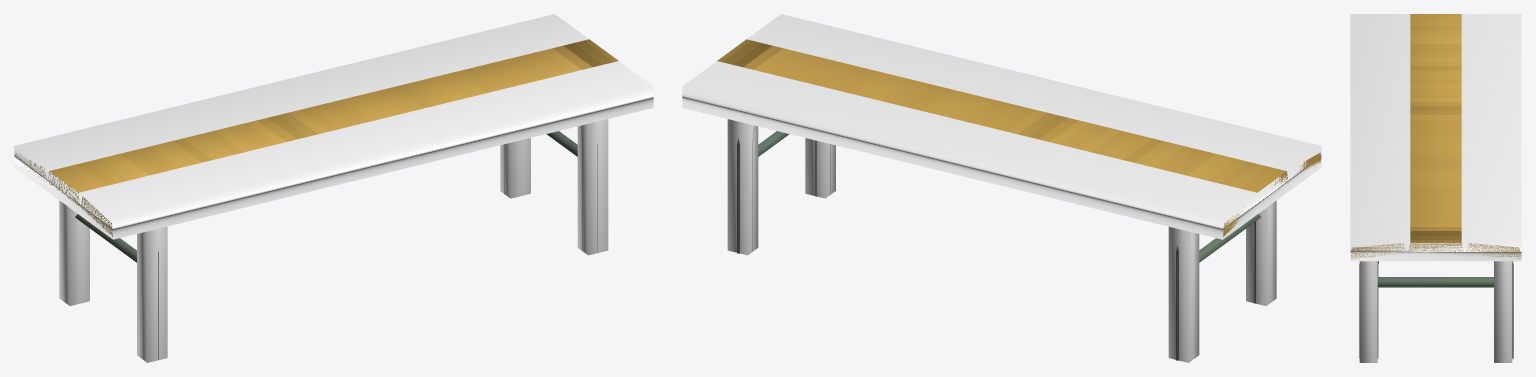
The model's file is objects_un_c03bench01.gltf.
The picture shows the model from 3 angles, left to right: view 1: azimuth 30°, elevation 25°; view 2: azimuth 150°, elevation 25°; view 3: azimuth 270°, elevation 25°; orthographic projection. The views are drawn at different scales.
Visible parts, largest first — view 1: um_objects_un_c03bench01_model_lod0Shape:objects_un_c03bench (×2); view 2: um_objects_un_c03bench01_model_lod0Shape:objects_un_c03bench (×2); view 3: um_objects_un_c03bench01_model_lod0Shape:objects_un_c03bench (×2).
Boxes of the visible parts, x1=… form: um_objects_un_c03bench01_model_lod0Shape:objects_un_c03bench (×2): x1=14, y1=14, x2=653, y2=362; um_objects_un_c03bench01_model_lod0Shape:objects_un_c03bench (×2): x1=682, y1=14, x2=1321, y2=362; um_objects_un_c03bench01_model_lod0Shape:objects_un_c03bench (×2): x1=1350, y1=14, x2=1521, y2=362.
Size of what is drawn, in the model's own units: 1.6 by 0.4484 by 0.5065.
Materials: 2 (1 with a texture image).
